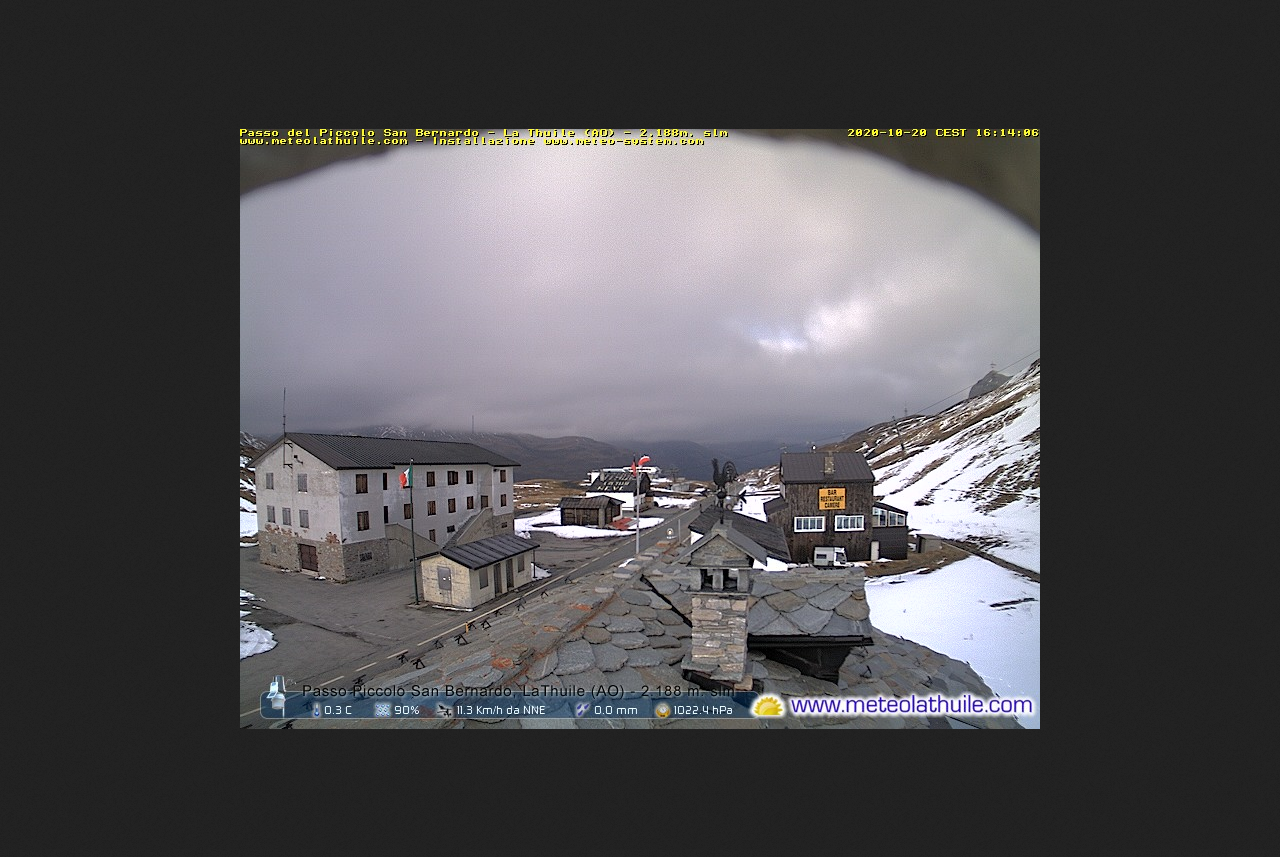no: (627, 455, 634, 477)
yes: (398, 459, 414, 490)
